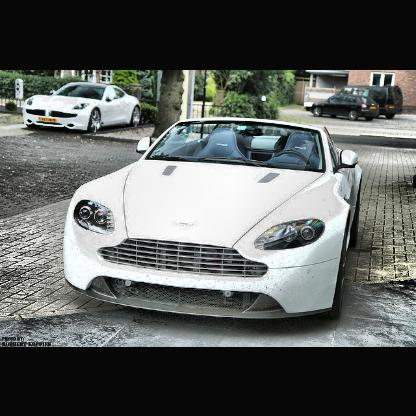Aston Martin V8 Vantage Convertible 2012: (63, 118, 363, 329)
